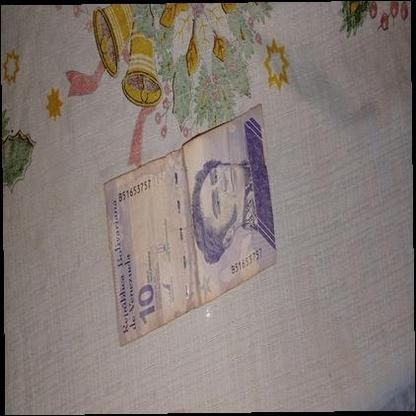ten-front-vef: (103, 103, 276, 347)
